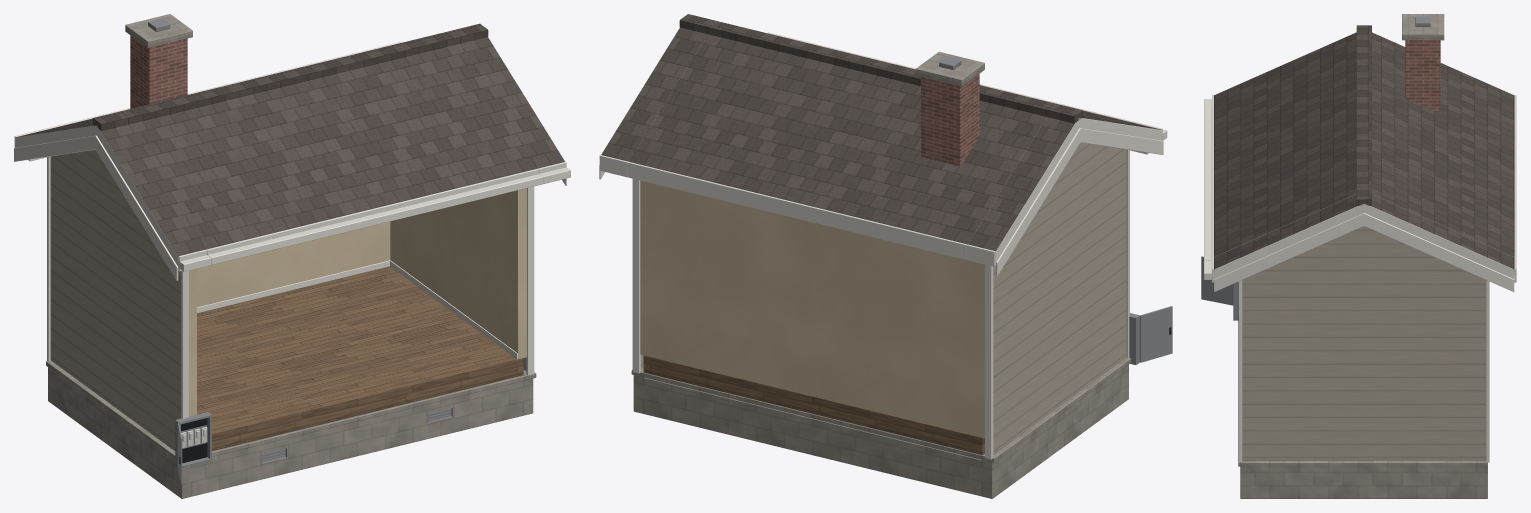
Rendered from HouseKit.fbx.
3 renders of one model, left to right at view 1: azimuth 30°, elevation 25°; view 2: azimuth 150°, elevation 25°; view 3: azimuth 270°, elevation 25°, orthographic. The views are drawn at different scales.
Parts seen in each view (by area): view 1: Roof_Segment, Roof_GableLeft, Room_Floor, Room_EndWall_Right, Foundation_Segment, Room_BackWall, Roof_GableRight, Foundation_EndLeft, Chimney, Breaker_Panel, Room_SideWall_Door; view 2: Room_BackWall, Roof_Segment, Roof_GableLeft, Foundation_Segment, Roof_GableRight, Foundation_EndLeft, Room_Floor, Chimney, Breaker_Panel_Door, Room_EndWall_Right, Room_SideWall_Door; view 3: Roof_GableRight, Roof_Segment, Foundation_EndRight, Roof_GableLeft, Chimney, Breaker_Panel_Door.
Part boxes in pixels (box(x1,y1,x2,y2)): Roof_Segment: box(42, 30, 543, 264); Roof_GableLeft: box(14, 111, 211, 451); Room_Floor: box(197, 266, 523, 450); Room_EndWall_Right: box(390, 188, 526, 359); Foundation_Segment: box(191, 375, 524, 496); Room_BackWall: box(197, 221, 390, 313); Roof_GableRight: box(374, 23, 570, 375); Foundation_EndLeft: box(46, 361, 191, 498); Chimney: box(125, 14, 192, 108); Breaker_Panel: box(175, 412, 211, 467); Room_SideWall_Door: box(189, 269, 196, 416); Room_BackWall: box(643, 181, 982, 437); Roof_Segment: box(627, 21, 1134, 259); Roof_GableLeft: box(966, 103, 1167, 459); Foundation_Segment: box(643, 372, 982, 496); Roof_GableRight: box(599, 14, 795, 373); Foundation_EndLeft: box(982, 358, 1131, 498); Room_Floor: box(643, 355, 984, 455); Chimney: box(915, 51, 984, 166); Breaker_Panel_Door: box(1140, 306, 1172, 362); Room_EndWall_Right: box(640, 180, 649, 356); Room_SideWall_Door: box(977, 264, 984, 438); Roof_GableRight: box(1204, 187, 1516, 462); Roof_Segment: box(1204, 37, 1516, 260); Foundation_EndRight: box(1238, 458, 1487, 498); Roof_GableLeft: box(1204, 25, 1516, 111); Chimney: box(1402, 14, 1444, 113); Breaker_Panel_Door: box(1201, 256, 1233, 305).
Size of the model in its own units: 7.1 by 6.66 by 5.35.
13 materials, 7 textured.
